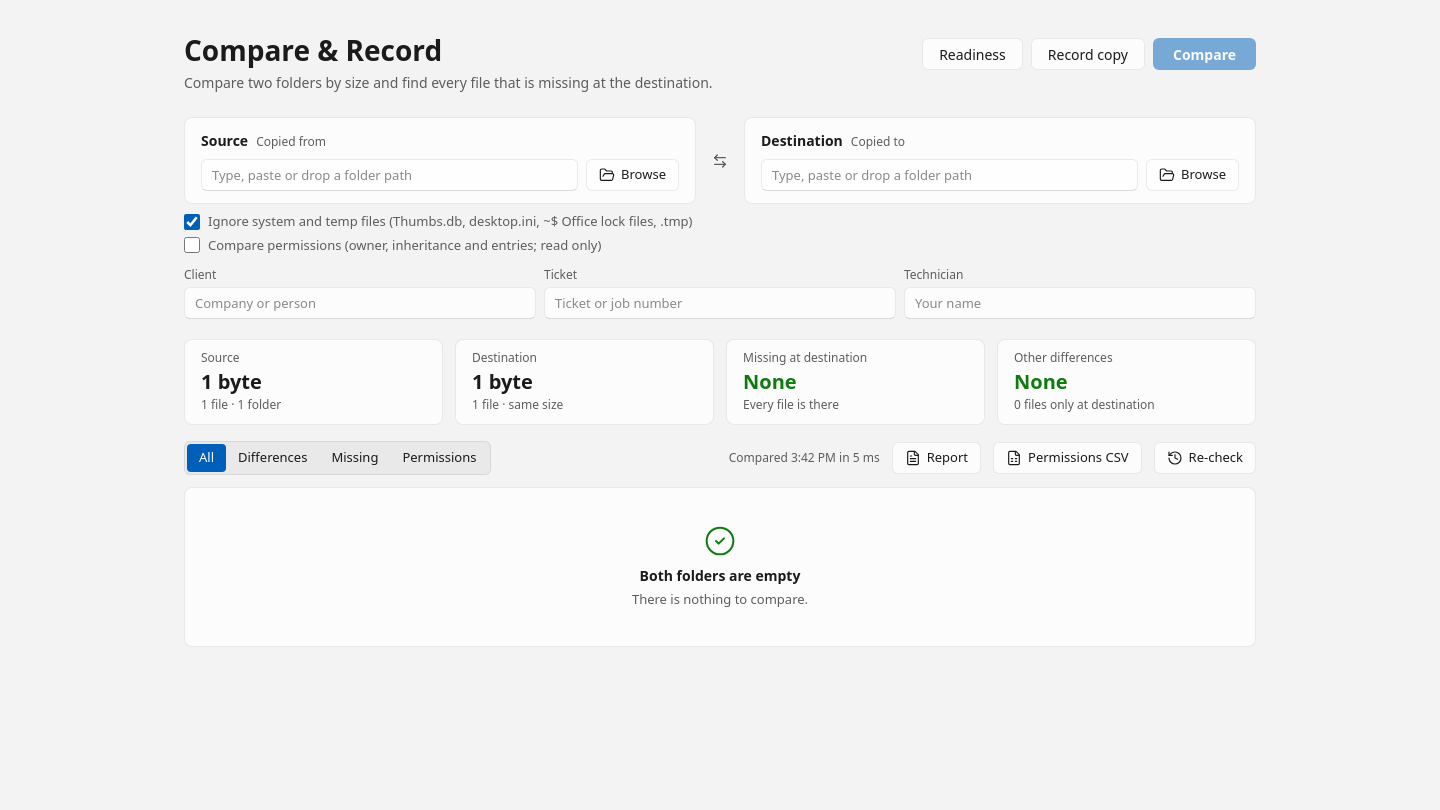
Test case: ComparePage permissions › says Saved after the export finishes
Click the button "Permissions CSV" at point(1067, 458), box [993,442,1142,474]
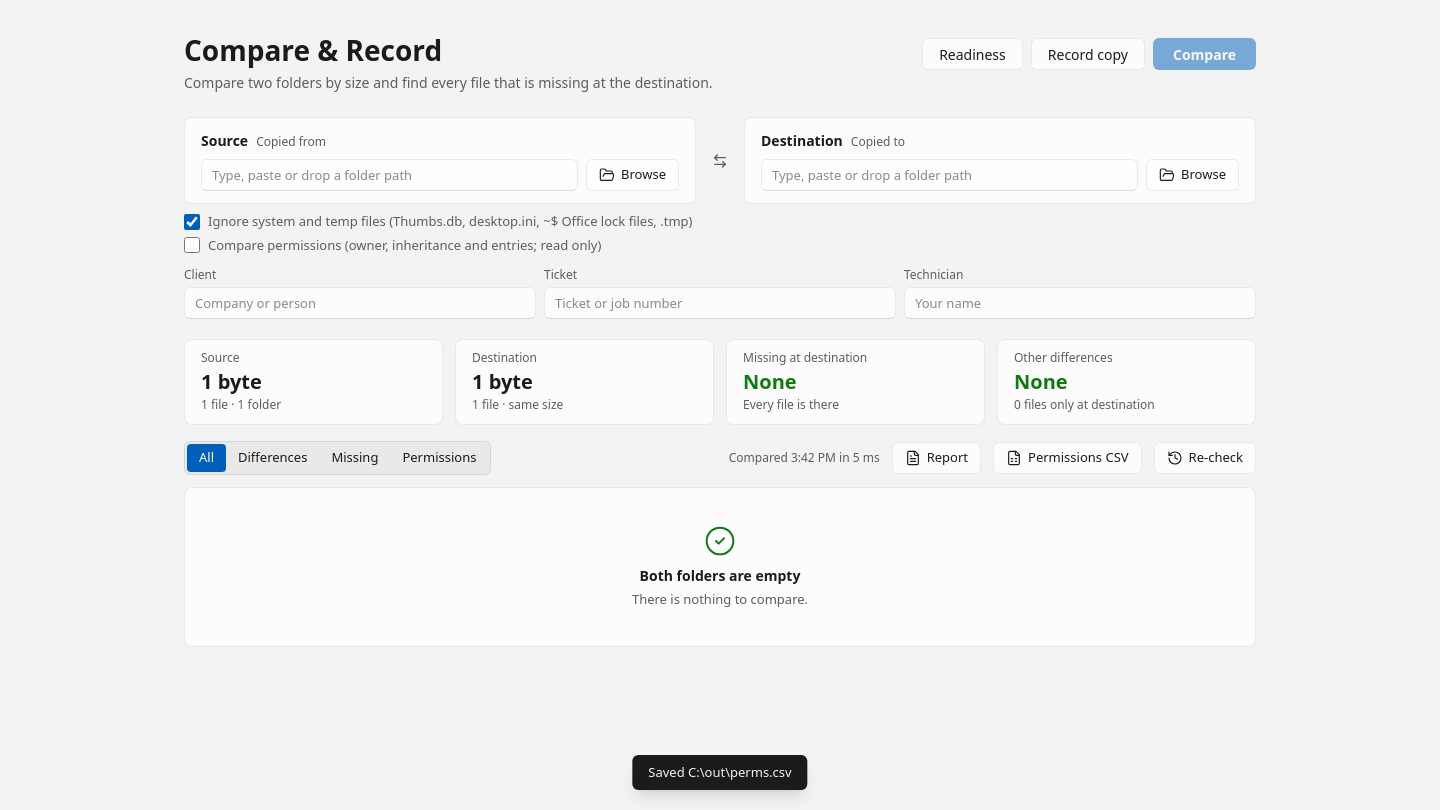
Result: the text "Saved C:\\out\\perms.csv" is shown at [632,754,808,790]
